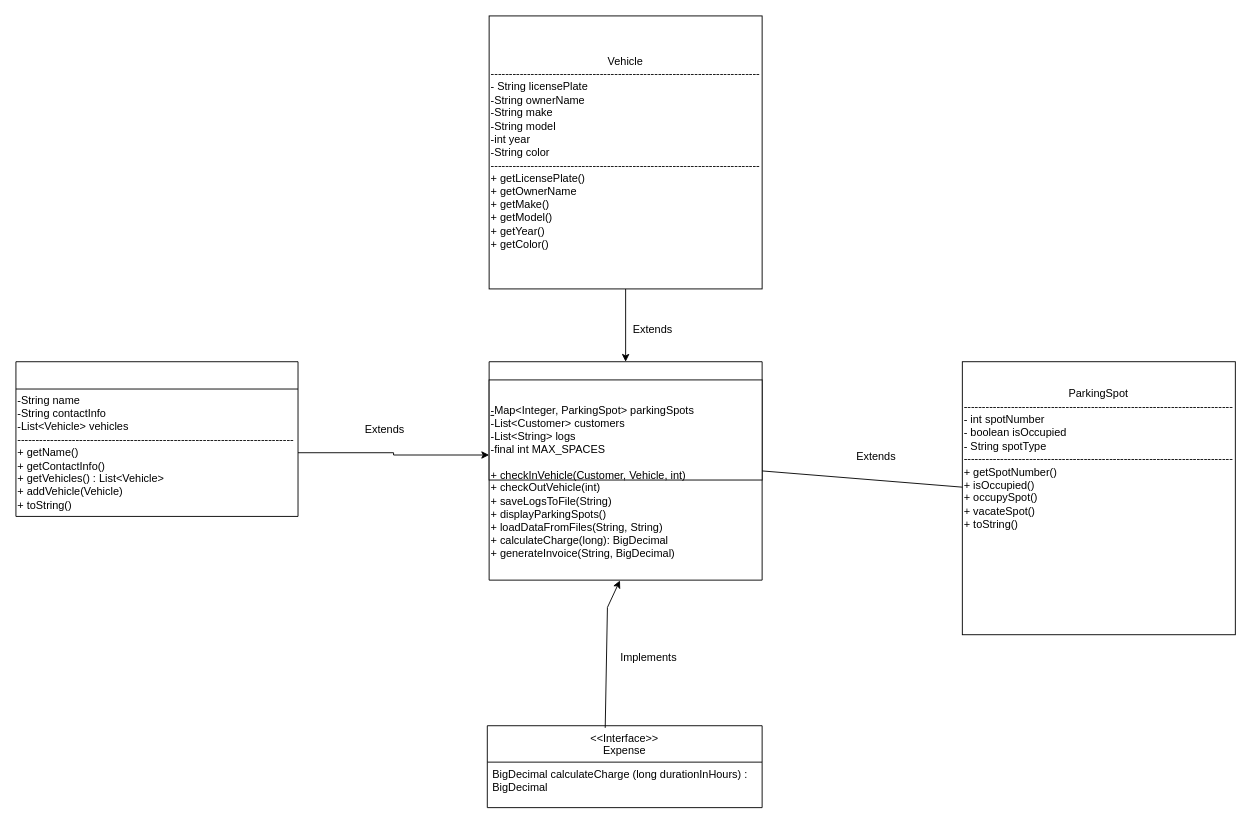
Some shapes in this 1251 by 826 pixel diagram are drawn without their labels. The shapes that lost their labels are listed below. From the top down, each one's box as (x1, y1, x2, y2) in pixels, then its label:
(15, 361, 298, 516): Customer
(488, 361, 762, 580): ValetService
